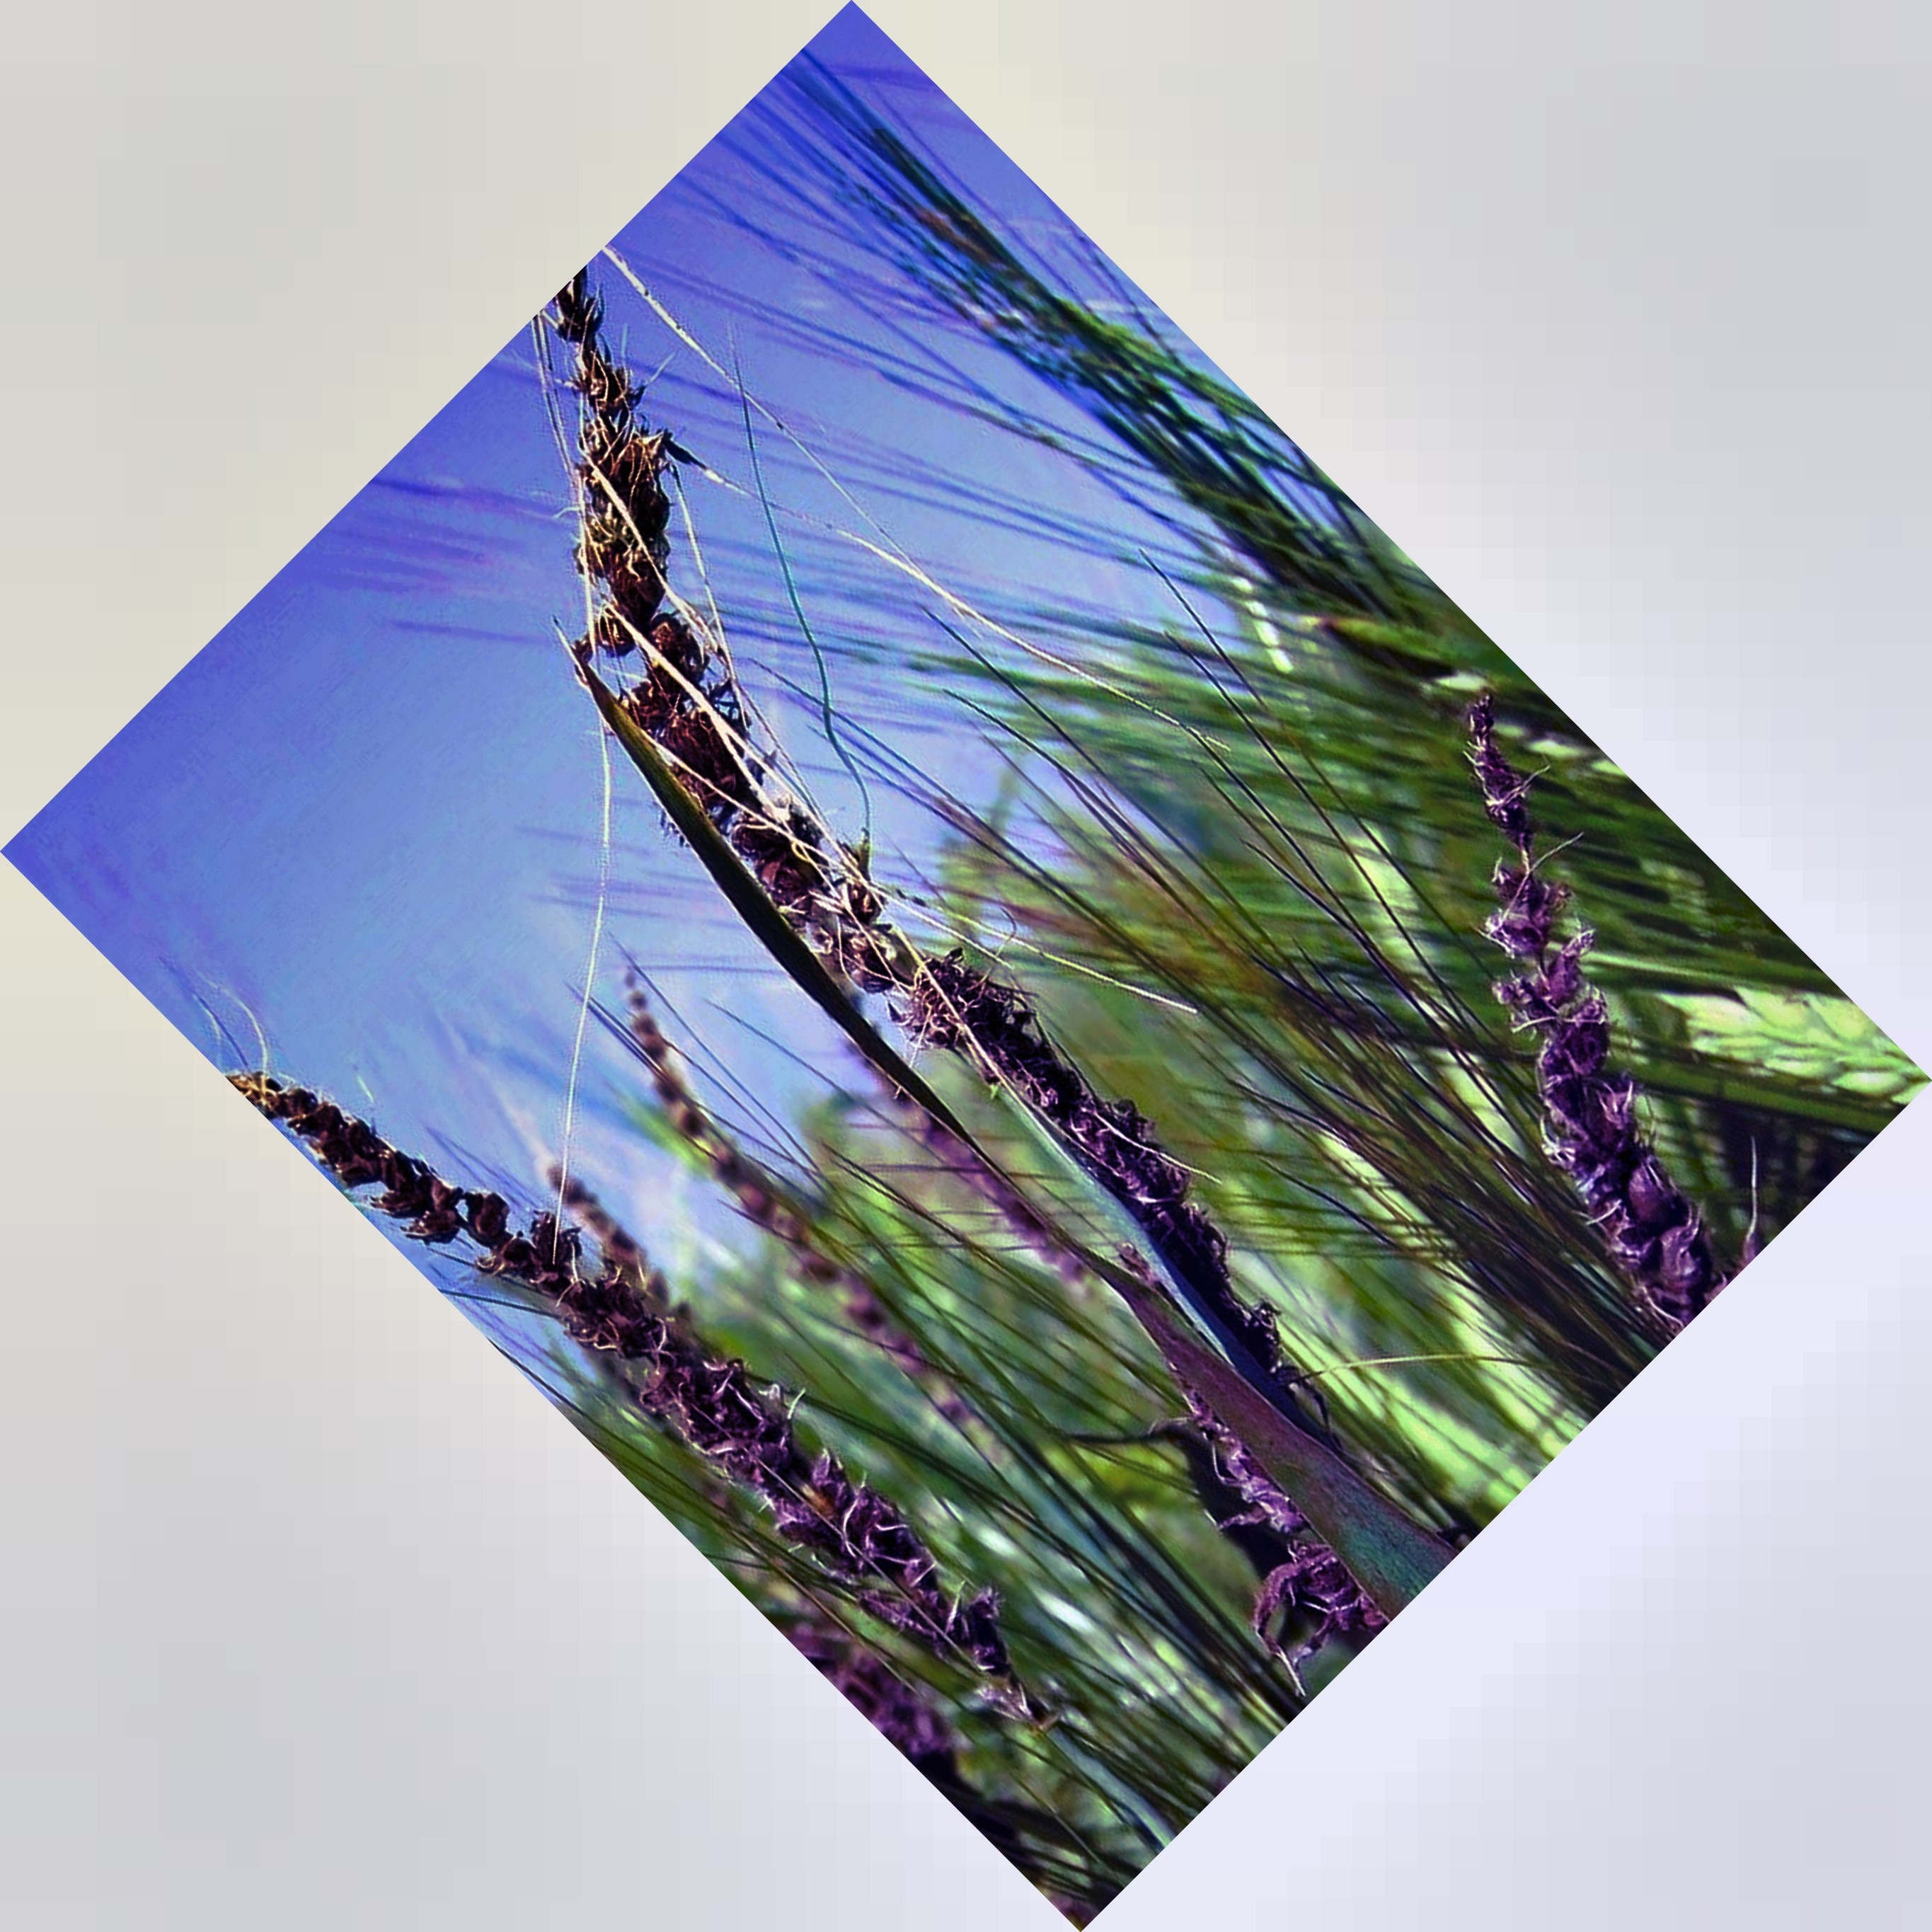Wheat Loose Smut: (1445, 757, 1711, 1327)
